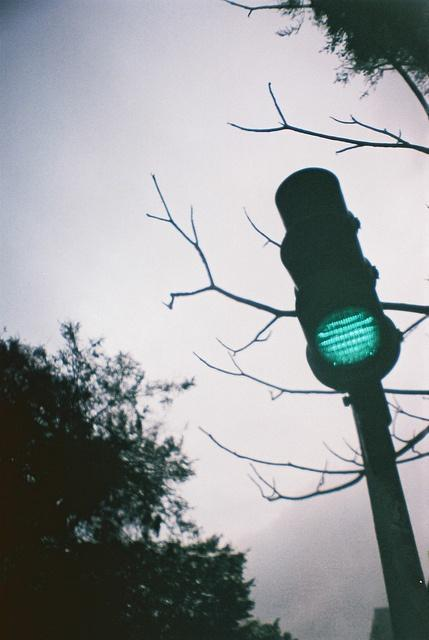green: (262, 175, 415, 403)
